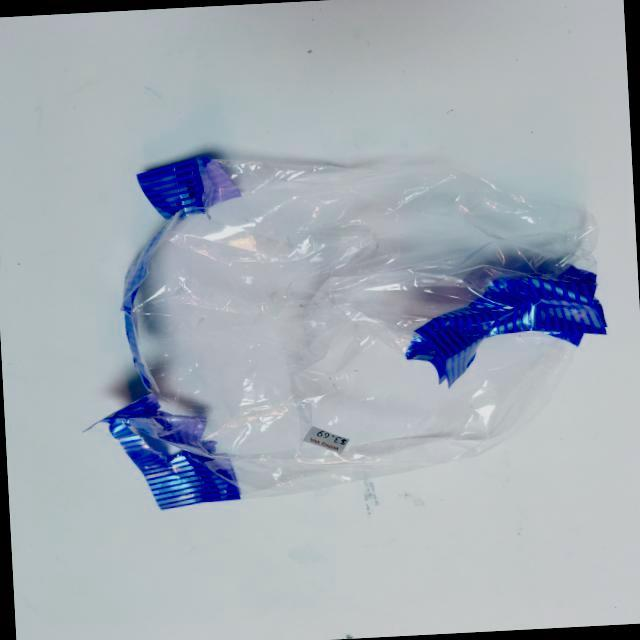paper: (61, 111, 638, 532)
